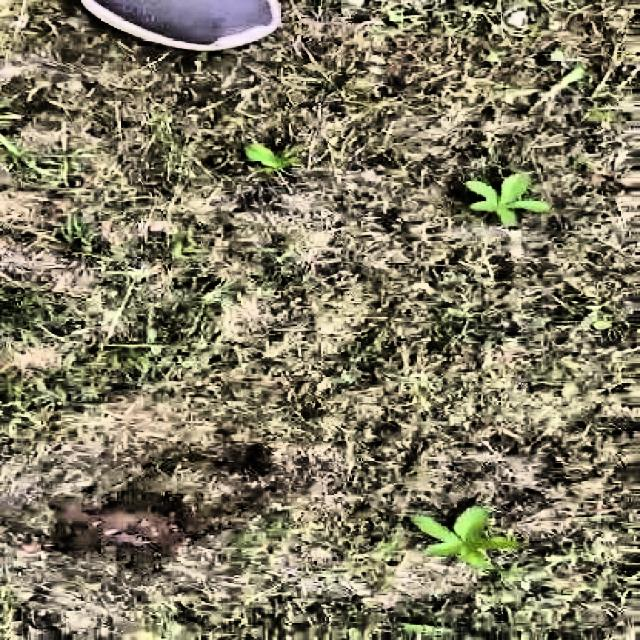Weeds: (410, 503, 524, 574), (465, 171, 549, 231)
